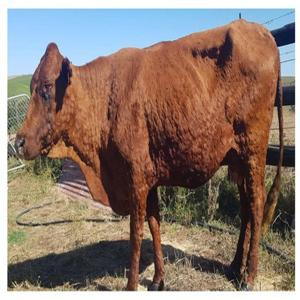lumpy skin diesease: (14, 17, 285, 291)
